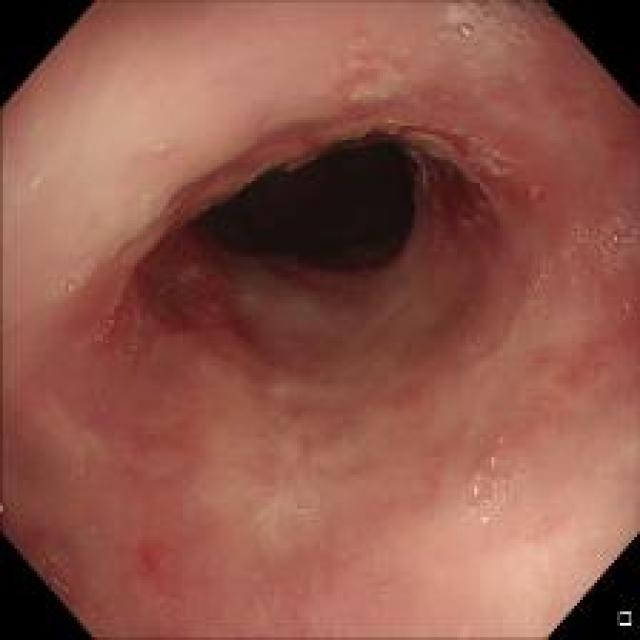bubbles: (442, 0, 559, 59), (462, 455, 528, 526), (571, 202, 635, 274), (96, 301, 141, 359), (44, 252, 96, 301), (519, 249, 555, 316), (281, 484, 320, 514), (464, 326, 488, 355), (345, 26, 368, 55), (149, 129, 170, 155)
color misalignment: (275, 111, 528, 192)
contrast: (165, 122, 434, 284)
